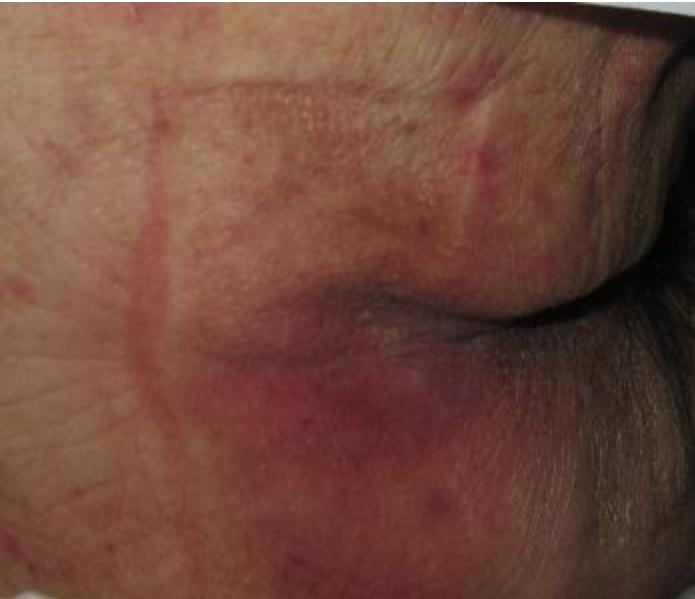Stage1: (78, 59, 662, 594)
